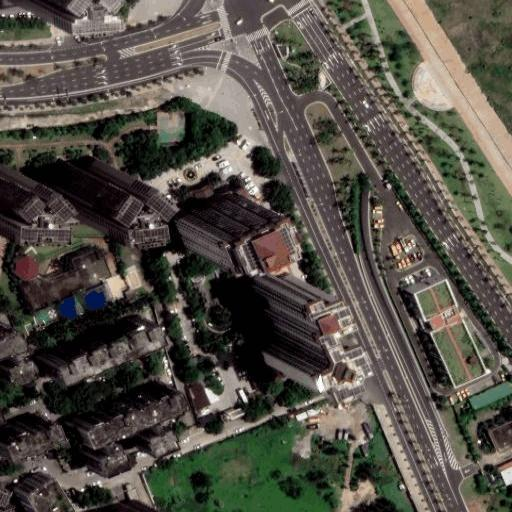building: (66, 387, 173, 475), (401, 269, 475, 380), (252, 281, 322, 387), (36, 320, 150, 385), (24, 250, 112, 306), (175, 205, 257, 263), (59, 141, 123, 201), (58, 280, 113, 322), (0, 420, 51, 461), (468, 376, 512, 412), (72, 498, 149, 512), (486, 416, 512, 454), (187, 383, 218, 411), (14, 491, 55, 512), (34, 304, 67, 330), (9, 362, 38, 389), (103, 274, 127, 305), (496, 461, 512, 486), (25, 317, 40, 333)
